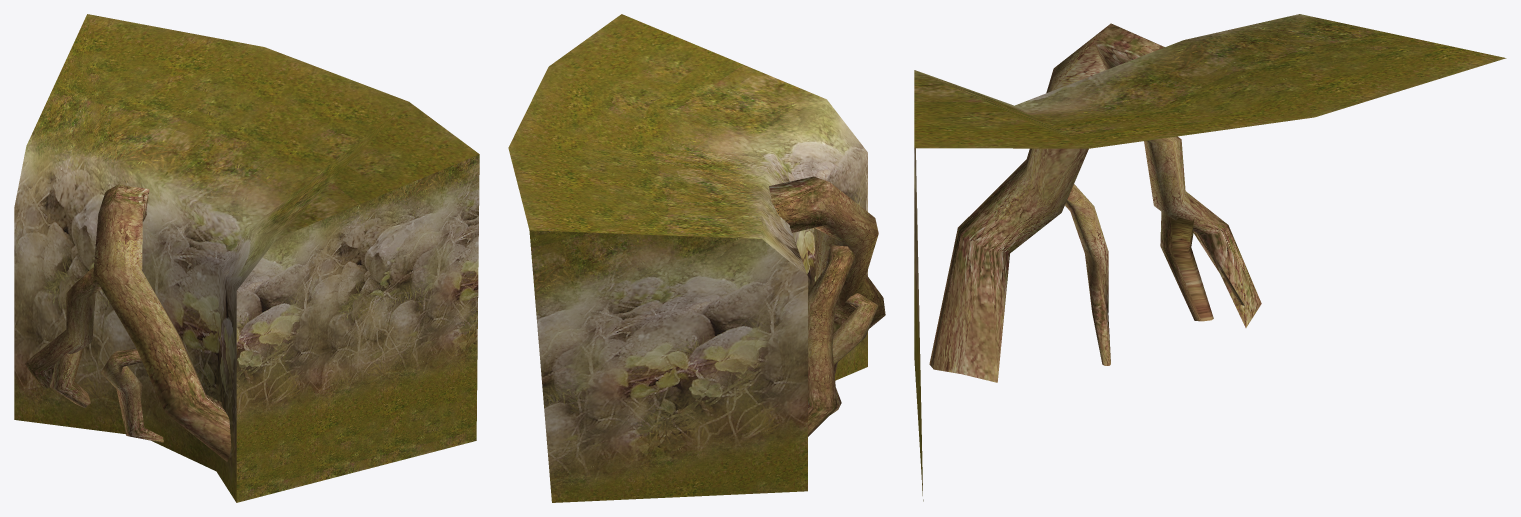
The model's file is n_tilewallB_5.glb.
3 renders of one model, left to right at view 1: azimuth 30°, elevation 25°; view 2: azimuth 150°, elevation 25°; view 3: azimuth 270°, elevation 25°, orthographic. The views are drawn at different scales.
Visible parts, largest first — view 1: n_tilewallB_5; view 2: n_tilewallB_5; view 3: n_tilewallB_5.
Part boxes in pixels (box(x1,y1,x2,y2)): n_tilewallB_5: box(14, 14, 479, 502); n_tilewallB_5: box(508, 14, 885, 502); n_tilewallB_5: box(914, 14, 1506, 501).
Size of the model in its own units: 4.09 by 3.41 by 5.17.
2 materials, 2 textured.
